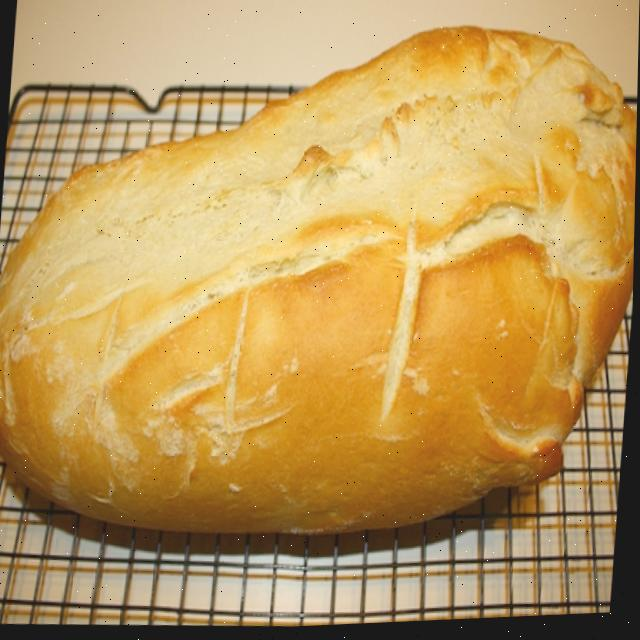面包点心: (0, 0, 640, 633)
